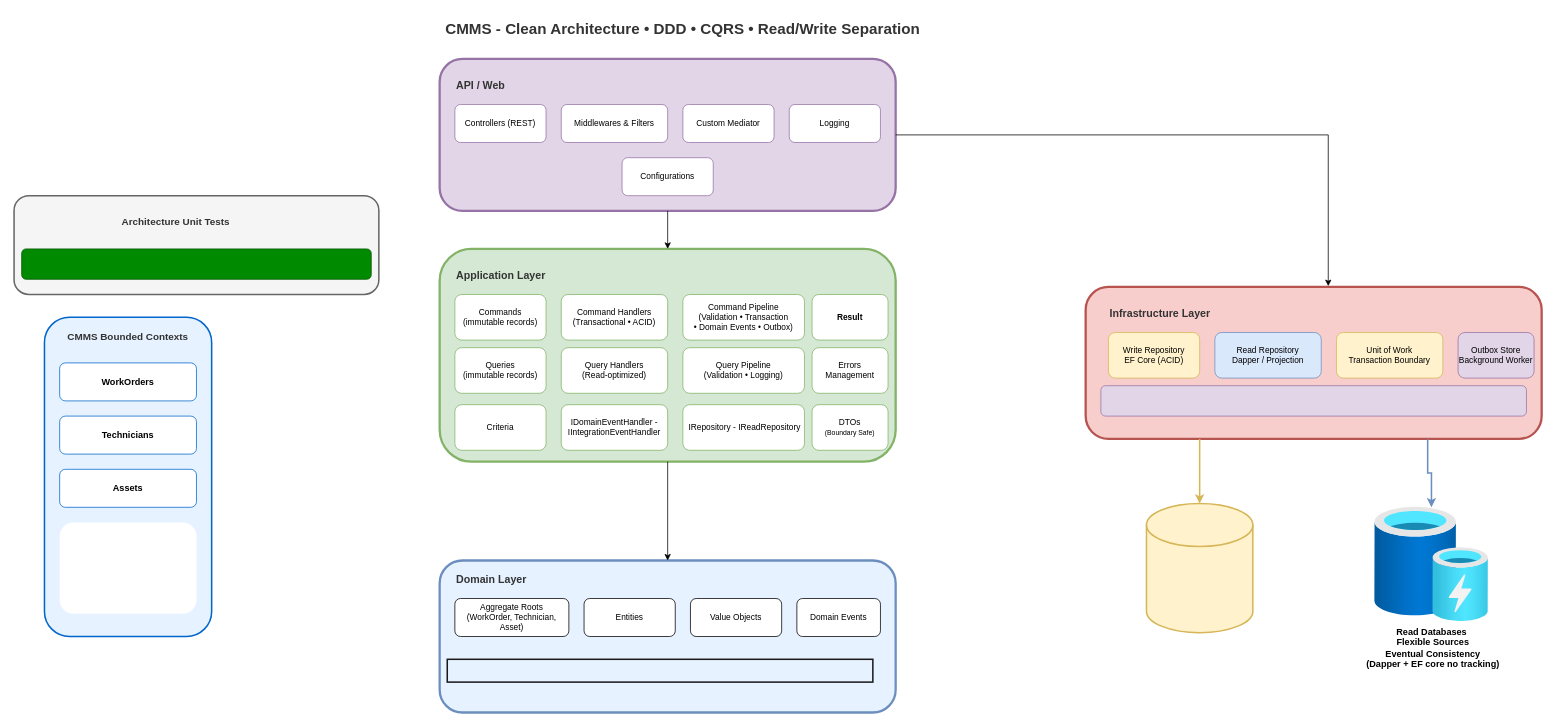
The diagram is 1556 pixels wide and 727 high, and some of its shapes have lost their labels. The shapes that lost their labels are listed below. From the top down, each one's box as (x1, y1, x2, y2) in pixels, then its label:
(21, 248, 371, 279): Compile-Time Enforcement | Self-Documenting Architecture
(1100, 385, 1526, 416): Domain Events → Outbox → Integrational Event Handlers
(59, 522, 196, 613): Cross-aggregate coordination via Domain Events
(1145, 502, 1253, 633): Write Database SQL Server EF Core Strong Consistency ACID Guarantees RowVersion
(446, 658, 873, 682): DomainExceptions • Domain Errors
